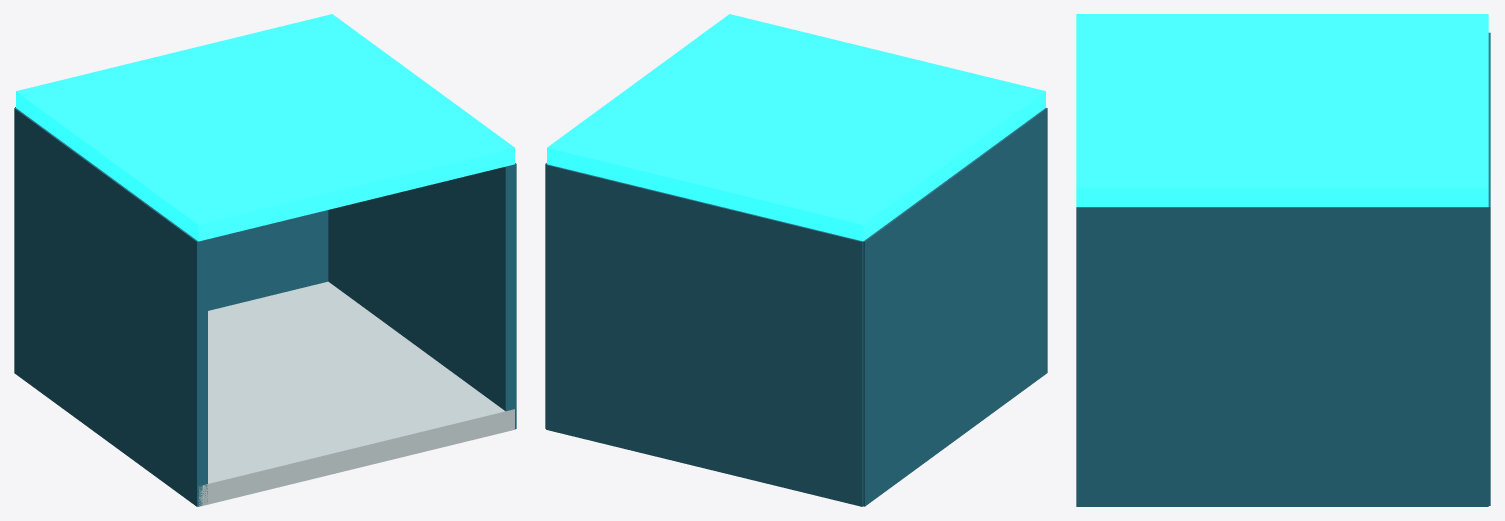
The model's file is PROP_elevator_scene_20261005.glb.
3 renders of one model, left to right at view 1: azimuth 30°, elevation 25°; view 2: azimuth 150°, elevation 25°; view 3: azimuth 270°, elevation 25°, orthographic. The views are drawn at different scales.
Visible parts, largest first — view 1: LIFT_CabinRoof, LIFT_CabinSide, LIFT_CabinFloor, LIFT_CabinSide.001, LIFT_CabinBack; view 2: LIFT_CabinBack, LIFT_CabinRoof, LIFT_CabinSide; view 3: LIFT_CabinSide.001, LIFT_CabinRoof, LIFT_CabinBack.
Part boxes in pixels (box(x1,y1,x2,y2)): LIFT_CabinRoof: box(16, 14, 514, 241); LIFT_CabinSide: box(14, 108, 207, 506); LIFT_CabinFloor: box(198, 281, 514, 506); LIFT_CabinSide.001: box(328, 163, 516, 429); LIFT_CabinBack: box(15, 107, 328, 310); LIFT_CabinBack: box(546, 164, 863, 506); LIFT_CabinRoof: box(547, 14, 1045, 241); LIFT_CabinSide: box(863, 108, 1047, 506); LIFT_CabinSide.001: box(1076, 207, 1488, 506); LIFT_CabinRoof: box(1076, 14, 1488, 206); LIFT_CabinBack: box(1488, 32, 1490, 505).
Bounding box in the file's own units: 4.04 × 3.4 × 4.02.
